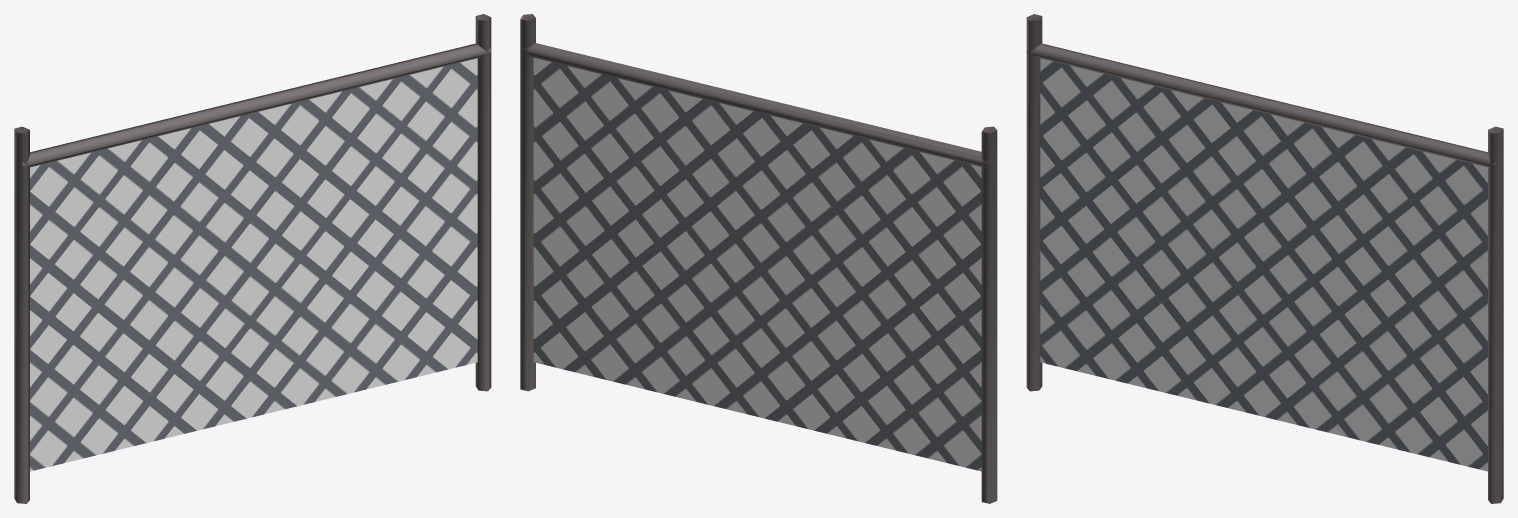
File: Metal Fence.fbx
3 renders of one model, left to right at view 1: azimuth 30°, elevation 25°; view 2: azimuth 150°, elevation 25°; view 3: azimuth 330°, elevation 25°, orthographic.
Parts seen in each view (by area): view 1: Metal_Fence; view 2: Metal_Fence; view 3: Metal_Fence.
Part boxes in pixels (x1=…): Metal_Fence: x1=14, y1=14, x2=491, y2=503; Metal_Fence: x1=520, y1=14, x2=997, y2=503; Metal_Fence: x1=1026, y1=14, x2=1503, y2=503.
Bounding box in the file's own units: 164 × 122 × 4.96.
